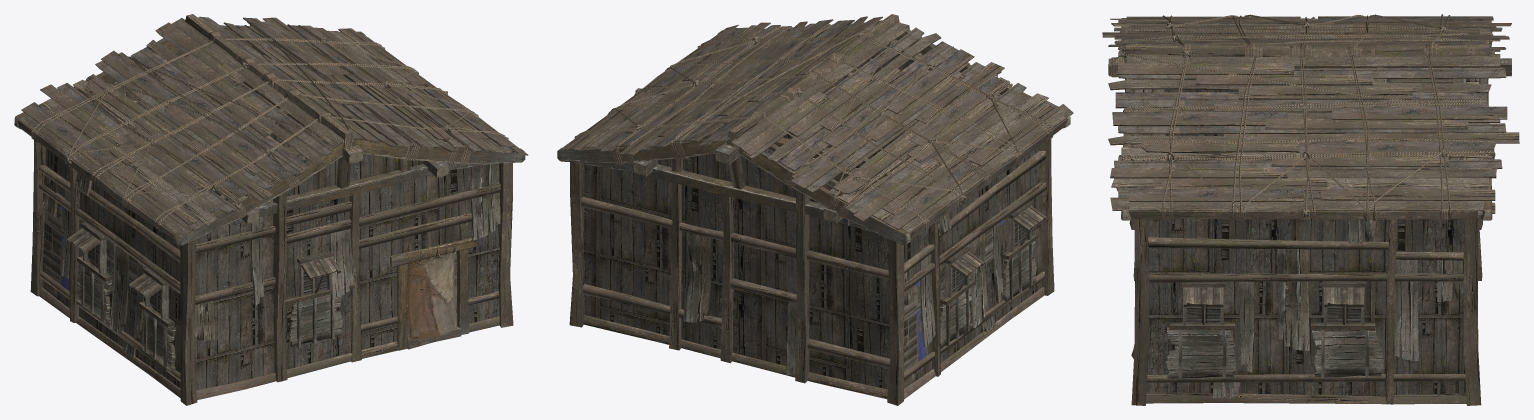
Rendered from OldHouse01.FBX.
The picture shows the model from 3 angles, left to right: view 1: azimuth 30°, elevation 25°; view 2: azimuth 150°, elevation 25°; view 3: azimuth 270°, elevation 25°; orthographic projection. The views are drawn at different scales.
Parts seen in each view (by area): view 1: LV_PadanaRuins_Village_RefugeeCamp01B_SM_LHJ, LV_PadanaRuins_Village_RefugeeCamp01A_SM_LHJ, LV_PadanaRuins_Village_RefugeeCamp01C_SM_LHJ; view 2: LV_PadanaRuins_Village_RefugeeCamp01B_SM_LHJ, LV_PadanaRuins_Village_RefugeeCamp01A_SM_LHJ; view 3: LV_PadanaRuins_Village_RefugeeCamp01A_SM_LHJ, LV_PadanaRuins_Village_RefugeeCamp01B_SM_LHJ.
Part boxes in pixels (bbox=[...]): LV_PadanaRuins_Village_RefugeeCamp01B_SM_LHJ: bbox=[30, 97, 513, 405]; LV_PadanaRuins_Village_RefugeeCamp01A_SM_LHJ: bbox=[14, 14, 528, 245]; LV_PadanaRuins_Village_RefugeeCamp01C_SM_LHJ: bbox=[406, 241, 461, 349]; LV_PadanaRuins_Village_RefugeeCamp01B_SM_LHJ: bbox=[569, 34, 1054, 405]; LV_PadanaRuins_Village_RefugeeCamp01A_SM_LHJ: bbox=[557, 14, 1073, 244]; LV_PadanaRuins_Village_RefugeeCamp01A_SM_LHJ: bbox=[1102, 14, 1519, 220]; LV_PadanaRuins_Village_RefugeeCamp01B_SM_LHJ: bbox=[1116, 78, 1488, 405].
Size of the model in its own units: 357 by 227 by 318.
